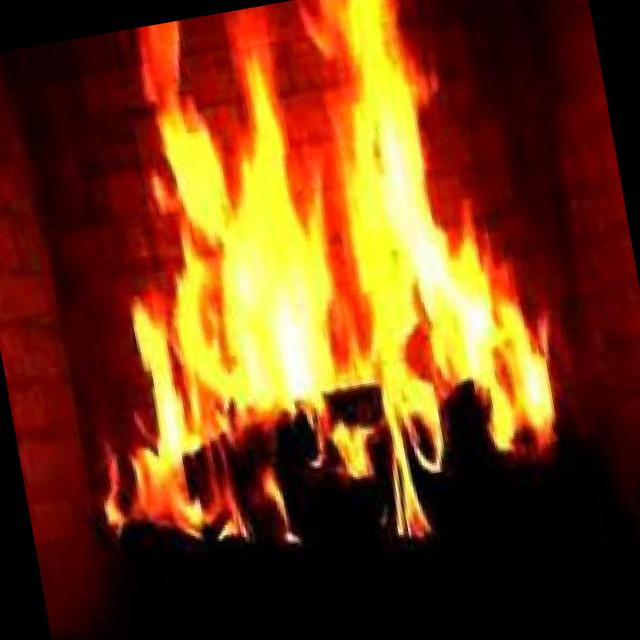Fire: (19, 0, 593, 609)
